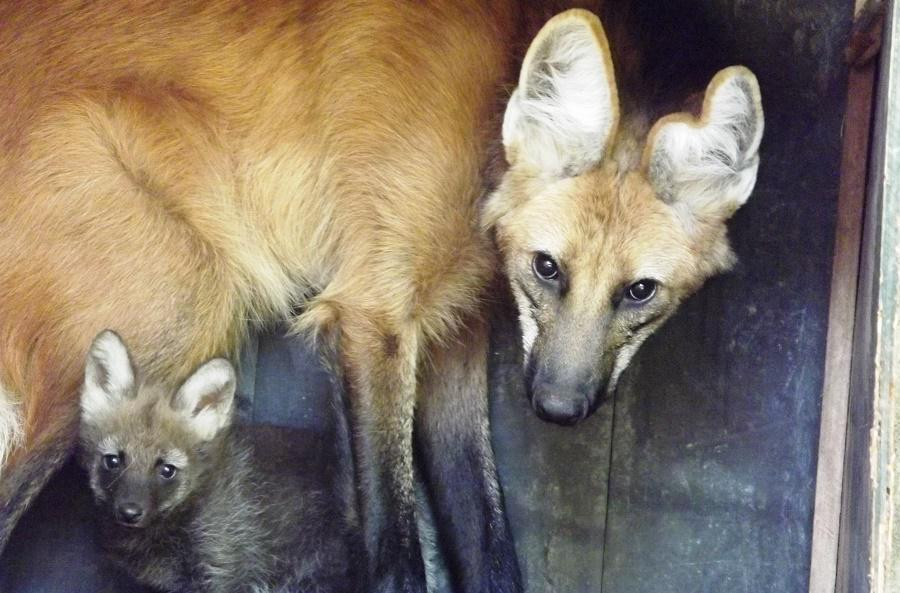LoboGuara: (14, 7, 773, 578), (74, 328, 354, 579)
